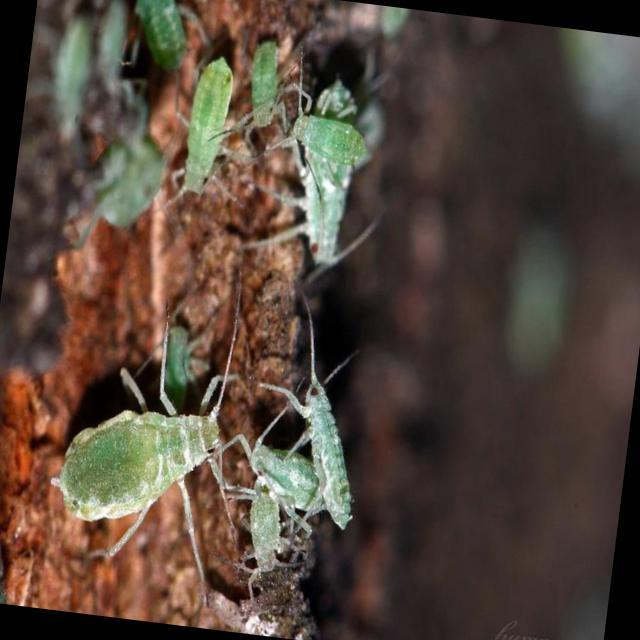aphid: (26, 292, 277, 574), (258, 312, 396, 564), (150, 46, 256, 226)
